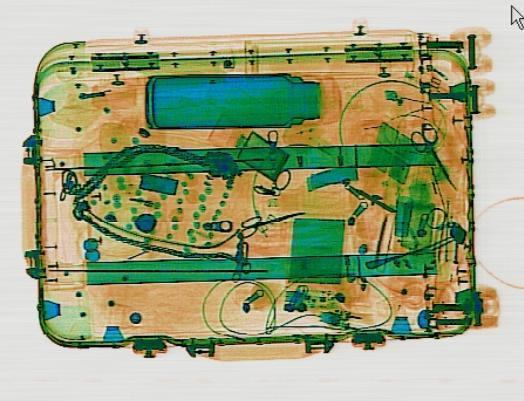Scissors: (402, 119, 468, 193), (231, 202, 310, 238)
